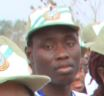without_facemask: (42, 54, 85, 85)
